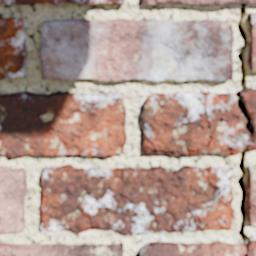brick: (40, 165, 233, 235), (40, 19, 232, 80), (0, 92, 126, 157), (0, 167, 26, 233), (0, 17, 26, 78), (0, 243, 122, 255), (0, 0, 123, 4), (247, 164, 255, 225), (249, 13, 255, 70)
broken_brick: (141, 92, 249, 156), (139, 240, 243, 255), (241, 86, 255, 129), (142, 0, 255, 5), (249, 238, 255, 255), (248, 138, 255, 150)
crack: (226, 2, 255, 255), (191, 95, 225, 154), (0, 150, 11, 157)
